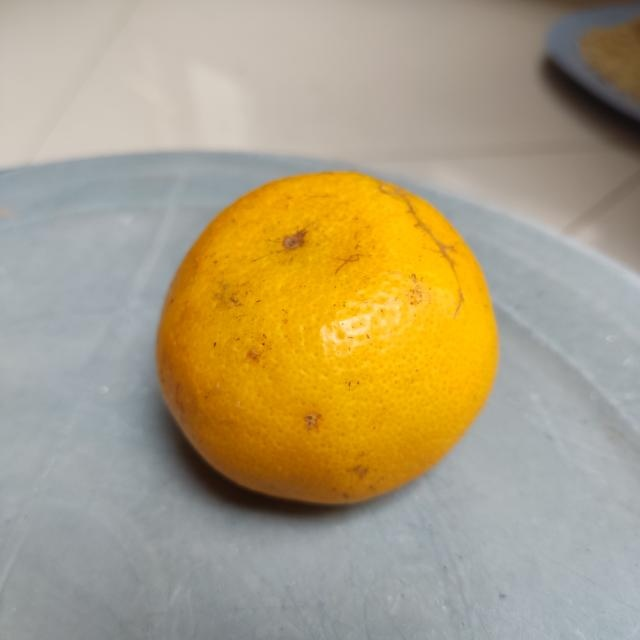agrume: (153, 169, 502, 508)
